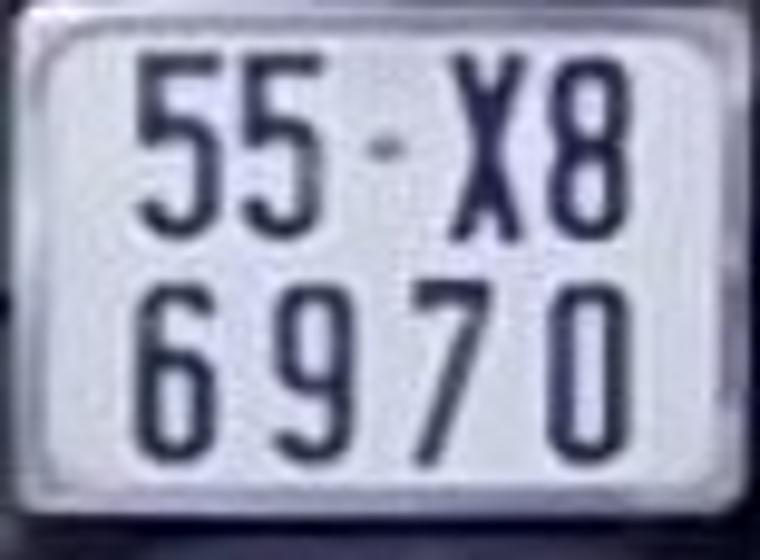-: (364, 135, 407, 159)
0: (541, 282, 631, 463)
5: (136, 51, 221, 236), (243, 50, 321, 236)
6: (135, 287, 217, 463)
7: (405, 280, 489, 463)
8: (547, 56, 625, 239)
9: (278, 283, 354, 464)
X: (452, 48, 521, 243)
